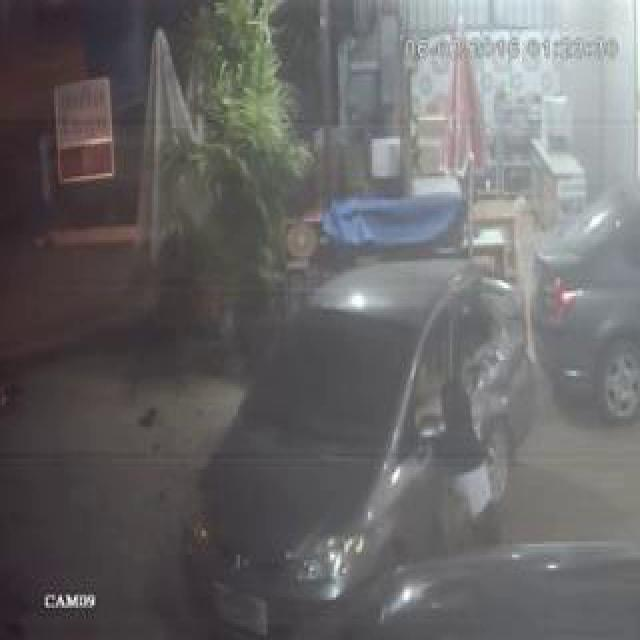road accidents: (324, 130, 591, 636)
